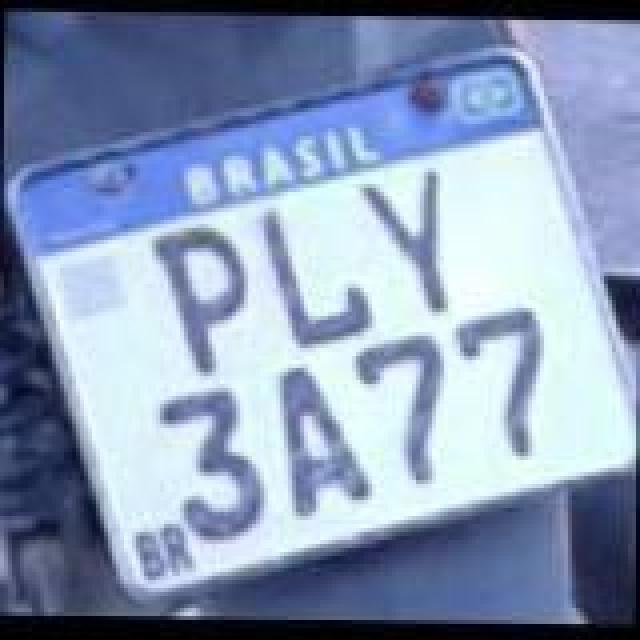3: (152, 390, 276, 550)
7: (450, 304, 554, 464), (350, 334, 446, 494)
A: (274, 358, 378, 522)
L: (256, 202, 384, 350)
P: (142, 222, 258, 382)
Y: (362, 174, 458, 318)
